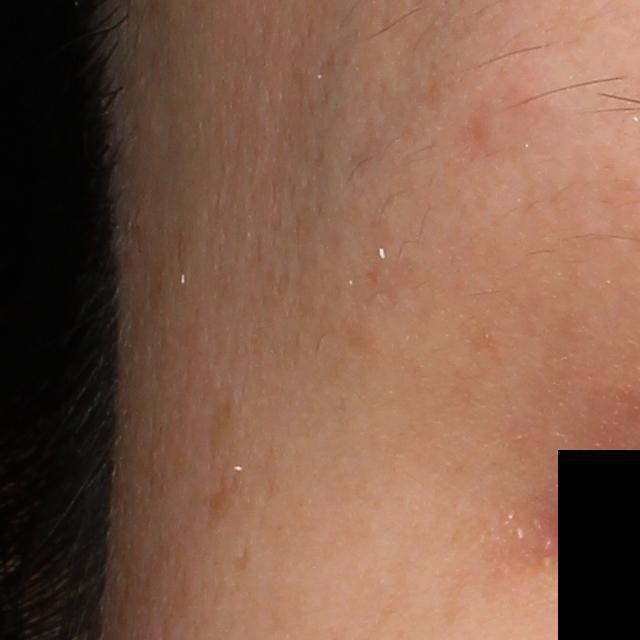melasma: (202, 469, 245, 528), (229, 546, 254, 577)
